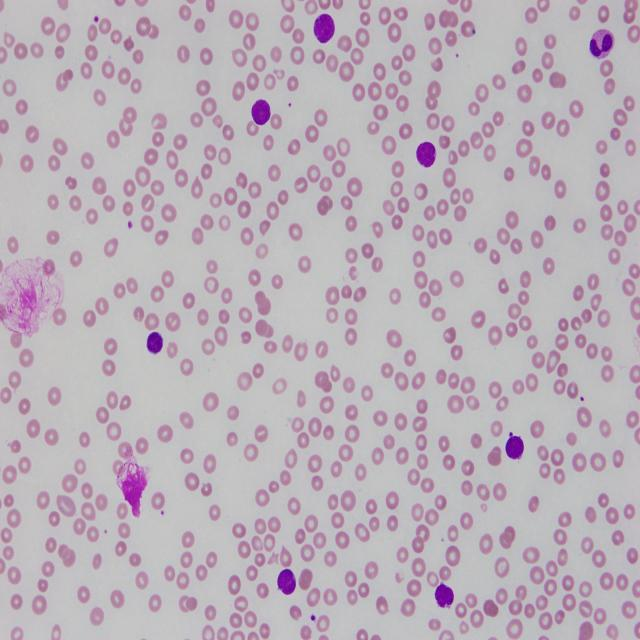cell: (314, 13, 335, 43), (416, 142, 436, 167), (505, 433, 524, 459), (278, 568, 296, 595), (251, 100, 270, 125), (435, 583, 454, 608), (146, 332, 162, 353)
